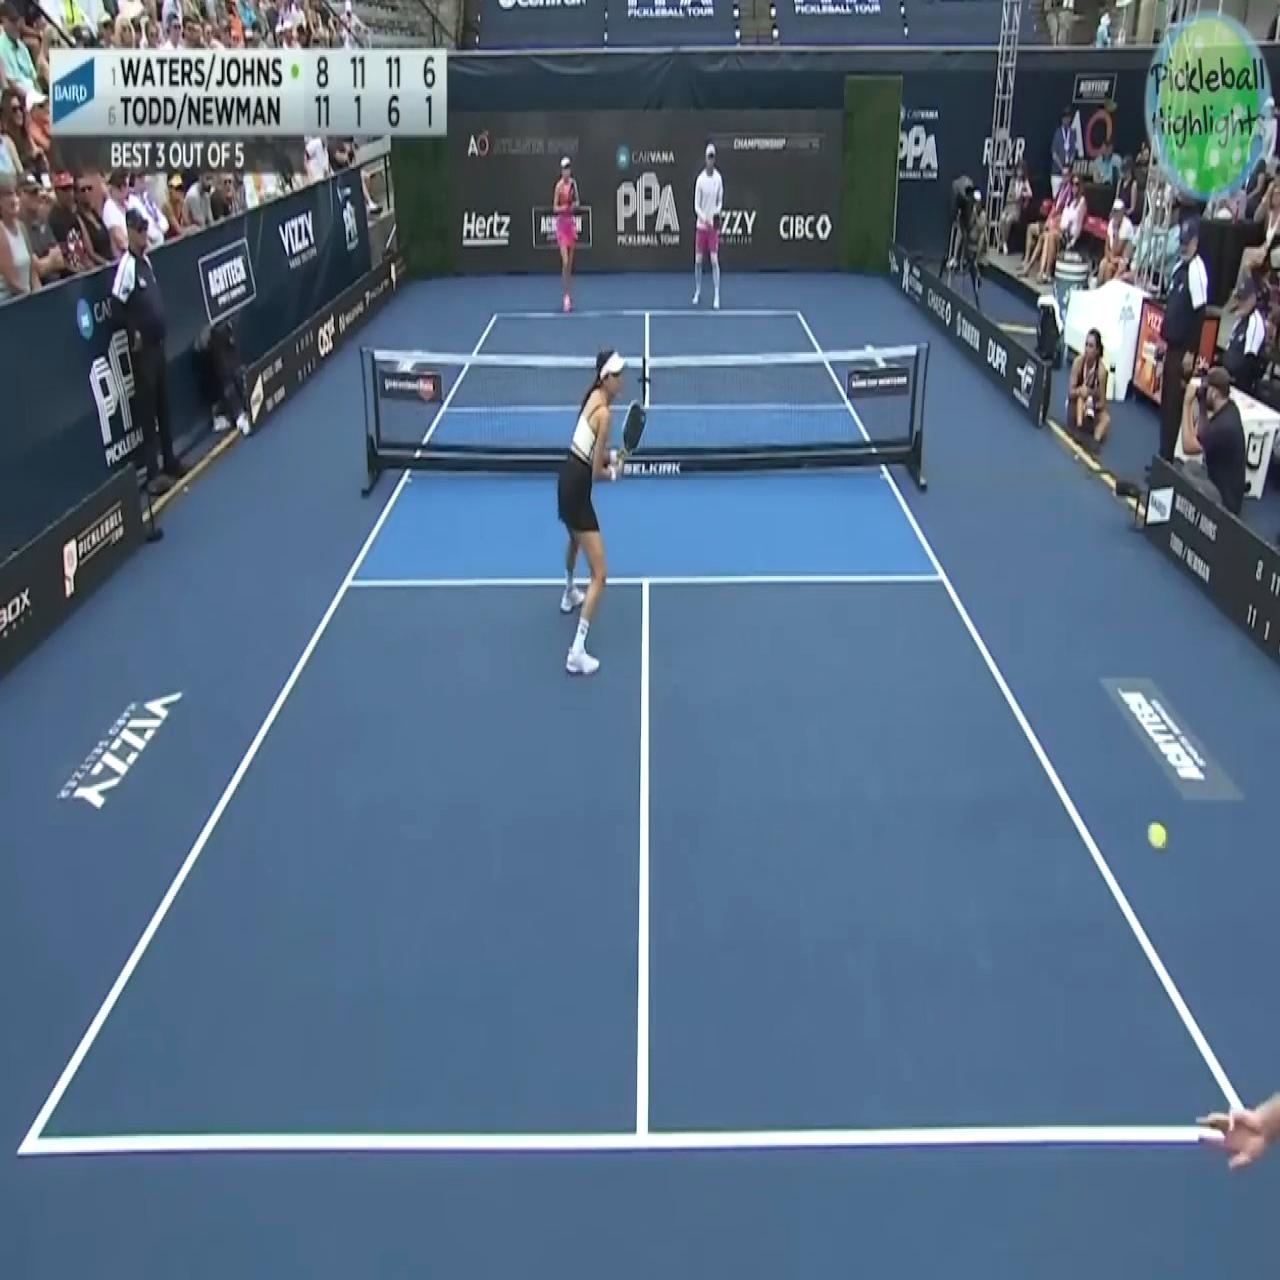Pickleball: (1145, 816, 1167, 853)
